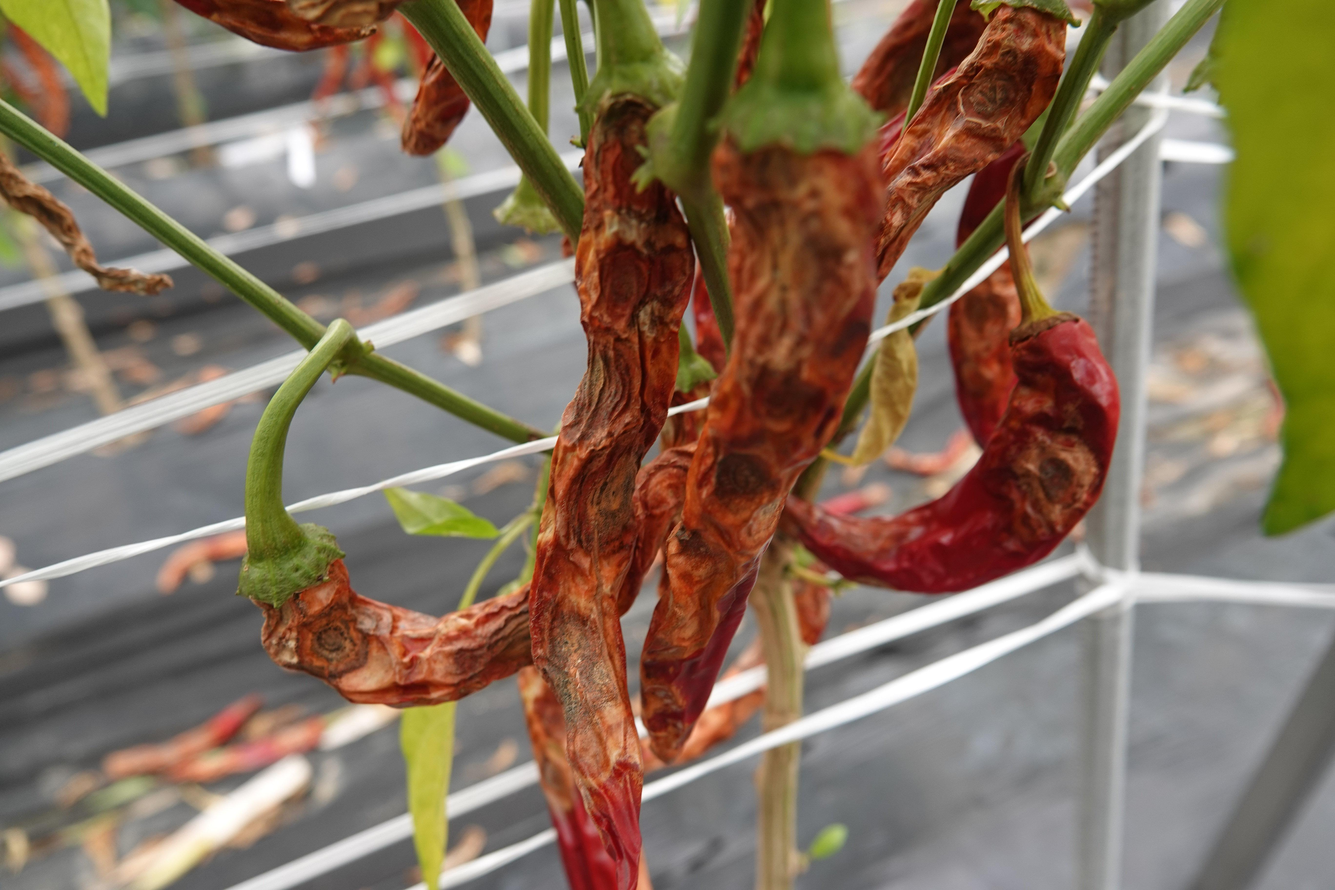Busuk Buah Antraknosa: (639, 79, 880, 774), (522, 35, 701, 890), (788, 298, 1130, 604), (236, 516, 538, 711)
